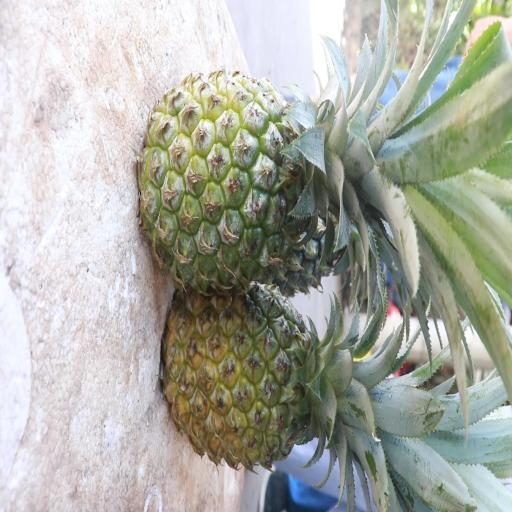------------------------------: (138, 61, 370, 287)
Pineapple - v8 v1: (166, 292, 391, 473)
